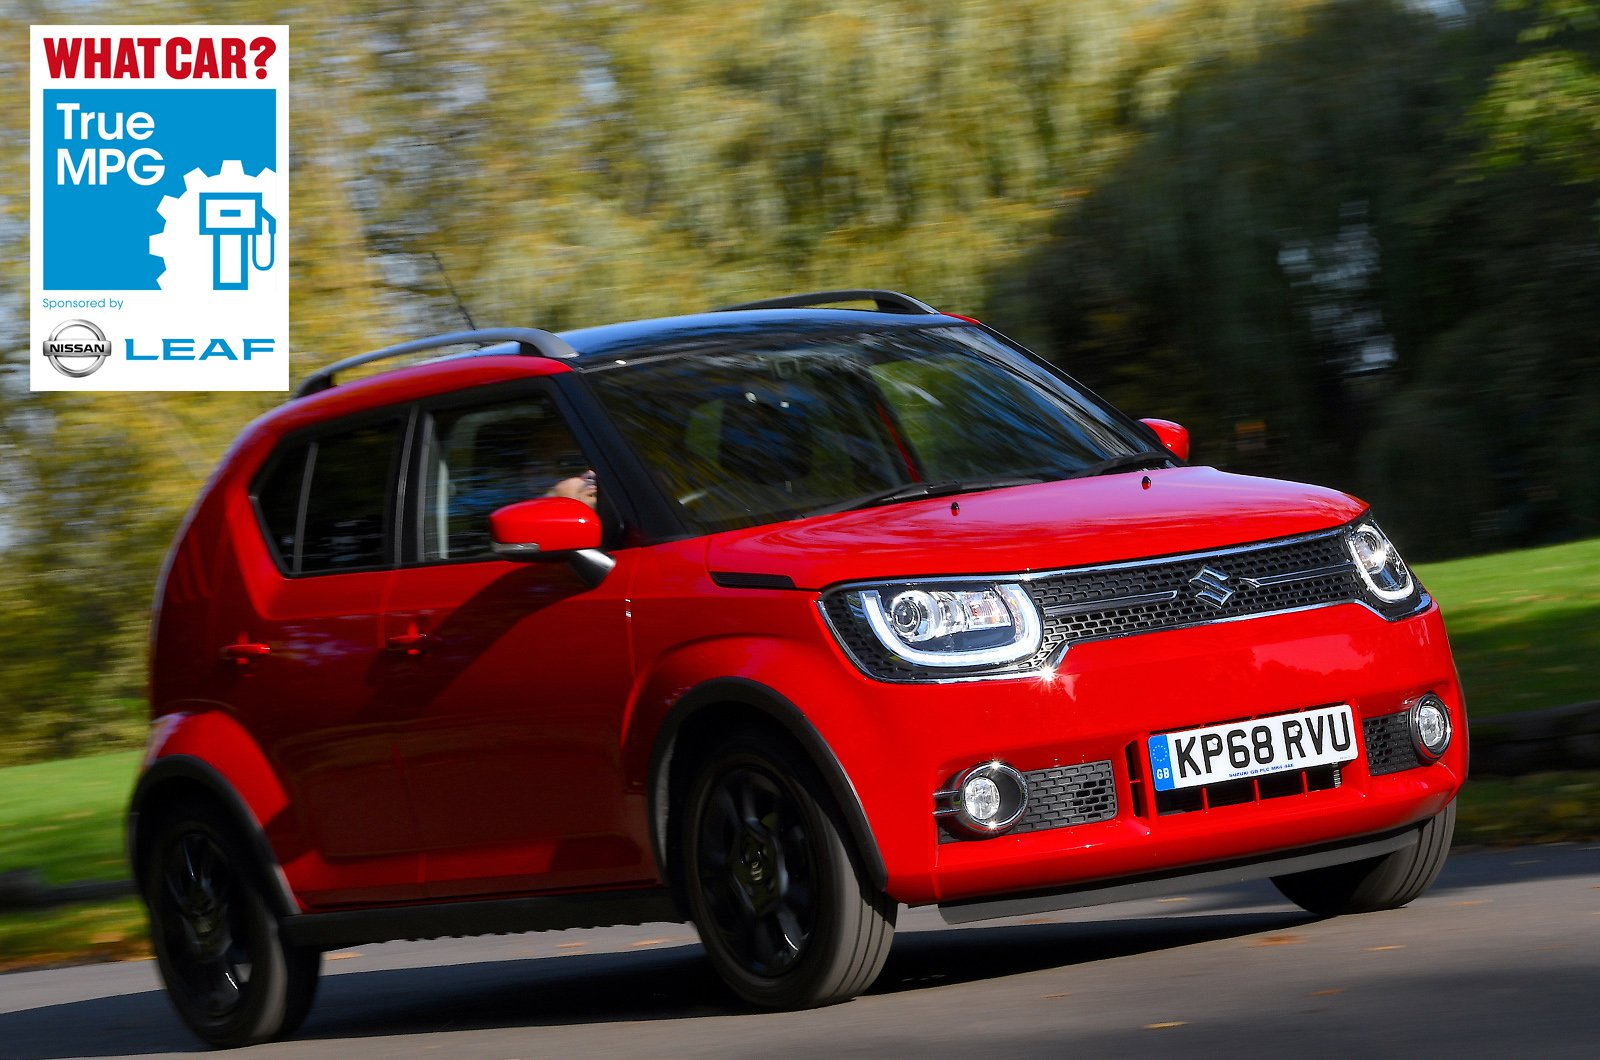Car: (101, 287, 1472, 1017)
